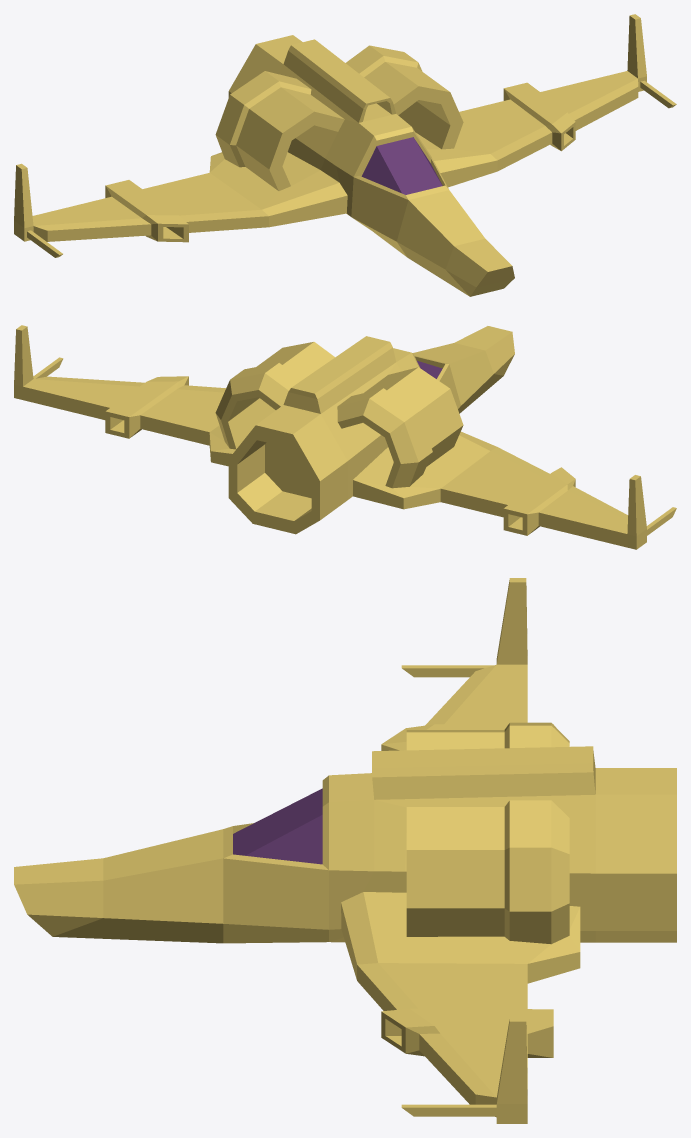
Rendered from monarch.glb.
The picture shows the model from 3 angles, top to bottom: view 1: azimuth 30°, elevation 25°; view 2: azimuth 150°, elevation 25°; view 3: azimuth 270°, elevation 25°; orthographic projection. The views are drawn at different scales.
Visible parts, largest first — view 1: Spaceship2; view 2: Spaceship2; view 3: Spaceship2.
Part boxes in pixels (box(x1,y1,x2,y2)): Spaceship2: box(14, 14, 676, 296); Spaceship2: box(14, 325, 676, 549); Spaceship2: box(14, 578, 676, 1123).
Bounding box in the file's own units: 6.48 × 1.17 × 4.07.
